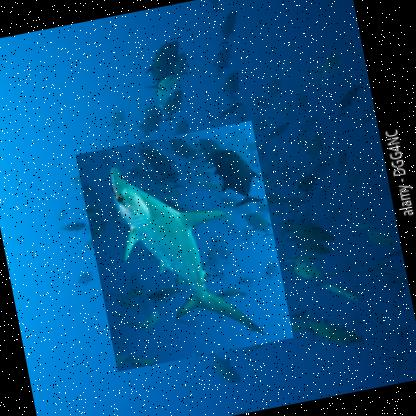hammerhead_Shark: (75, 118, 294, 370)
